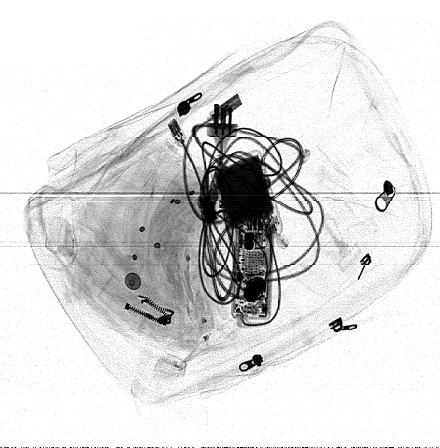Powerbank: (210, 149, 283, 250)
